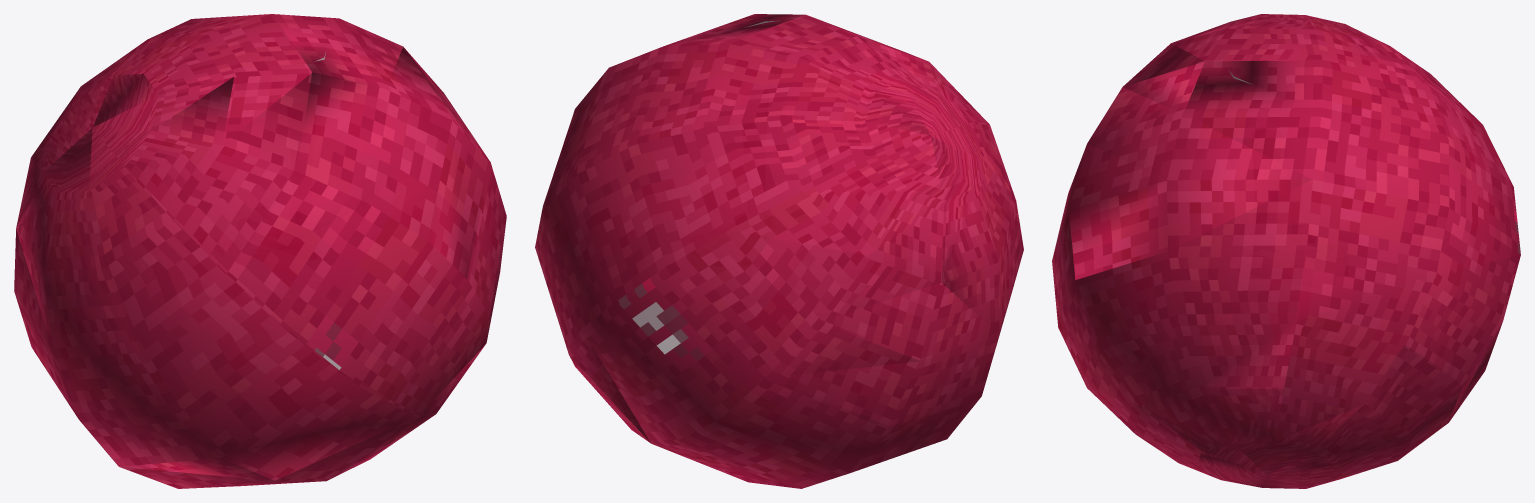
Rendered from dodgeball_from_chicken_little_game.glb.
3 views of the same model, side by side, from view 1: azimuth 30°, elevation 25°; view 2: azimuth 150°, elevation 25°; view 3: azimuth 270°, elevation 25° (orthographic).
Visible parts, largest first — view 1: Object_5, Object_3; view 2: Object_5, Object_3; view 3: Object_5, Object_3.
Boxes of the visible parts, x1,y1,x2,y2 form: Object_5: [14, 14, 506, 488]; Object_3: [15, 14, 505, 488]; Object_5: [535, 14, 1023, 488]; Object_3: [535, 14, 1023, 488]; Object_5: [1052, 14, 1520, 488]; Object_3: [1052, 14, 1519, 488].
Bounding box in the file's own units: 3.57 × 3.39 × 3.42.
5 materials, 4 textured.
